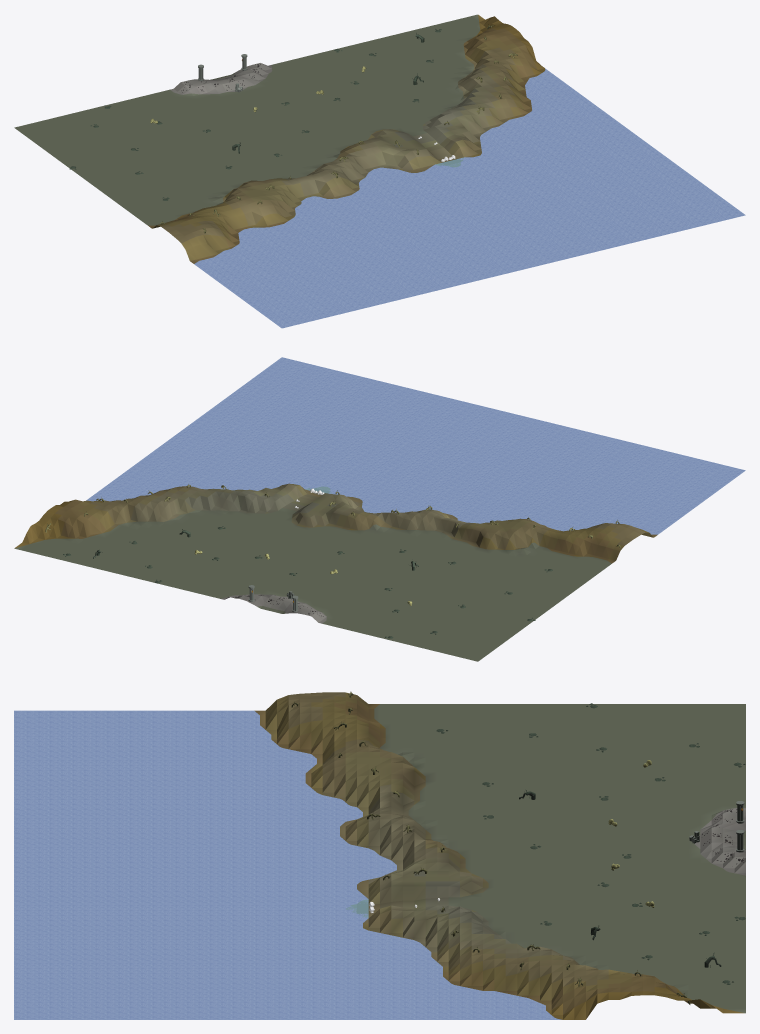
3 renders of one model, top to bottom at view 1: azimuth 30°, elevation 25°; view 2: azimuth 150°, elevation 25°; view 3: azimuth 270°, elevation 25°, orthographic. The views are drawn at different scales.
Visible parts, largest first — view 1: region_0_0_9007; view 2: region_0_0_9007; view 3: region_0_0_9007.
Boxes of the visible parts, box(x1,y1,x2,y2) form: region_0_0_9007: box(14, 14, 745, 328); region_0_0_9007: box(14, 357, 745, 661); region_0_0_9007: box(14, 691, 745, 1019).
Size of the model in its own units: 64.12 by 3.12 by 64.
Materials: 2 (1 with a texture image).
